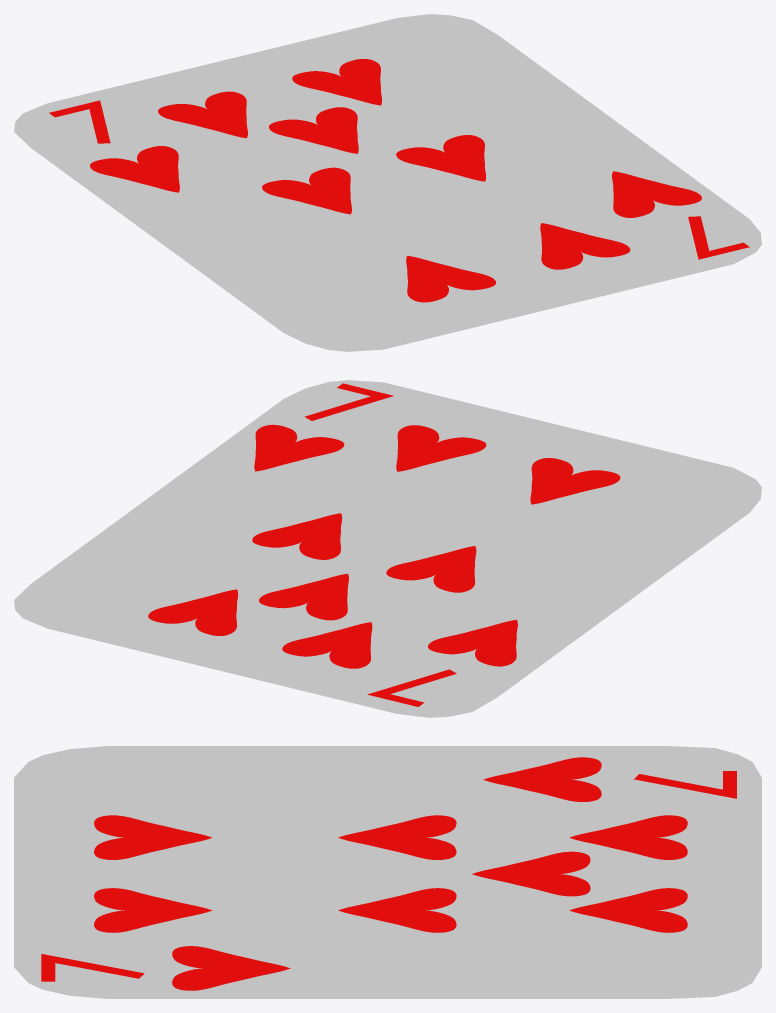
The picture shows the model from 3 angles, top to bottom: view 1: azimuth 30°, elevation 25°; view 2: azimuth 150°, elevation 25°; view 3: azimuth 270°, elevation 25°; orthographic projection. The views are drawn at different scales.
Parts seen in each view (by area): view 1: 7ofHearts, Plane.034_Red, Plane.035_Red, Plane.039_Red, Plane.032_Red, Plane.040_Red, Plane.033_Red, Plane.037_Red, Plane.036_Red, Plane.038_Red, Font.014_Bla_Blac.002, Font.013_Bla_Blac.002; view 2: 7ofHearts, Plane.034_Red, Plane.035_Red, Plane.038_Red, Plane.032_Red, Plane.039_Red, Plane.040_Red, Plane.033_Red, Plane.037_Red, Plane.036_Red, Font.013_Bla_Blac.002, Font.014_Bla_Blac.002; view 3: 7ofHearts, Plane.040_Red, Plane.034_Red, Plane.038_Red, Plane.032_Red, Plane.035_Red, Plane.037_Red, Plane.039_Red, Plane.033_Red, Plane.036_Red, Font.014_Bla_Blac.002, Font.013_Bla_Blac.002.
Boxes of the visible parts, <box> form: 7ofHearts: <box>14,14,761,351</box>; Plane.034_Red: <box>540,223,630,269</box>; Plane.035_Red: <box>406,256,495,302</box>; Plane.039_Red: <box>612,171,701,217</box>; Plane.032_Red: <box>262,167,351,214</box>; Plane.040_Red: <box>269,107,358,153</box>; Plane.033_Red: <box>396,135,485,181</box>; Plane.037_Red: <box>158,91,247,138</box>; Plane.036_Red: <box>292,59,381,105</box>; Plane.038_Red: <box>90,146,179,192</box>; Font.014_Bla_Blac.002: <box>688,216,749,259</box>; Font.013_Bla_Blac.002: <box>49,100,110,143</box>; 7ofHearts: <box>14,380,761,717</box>; Plane.034_Red: <box>396,425,486,471</box>; Plane.035_Red: <box>530,458,620,504</box>; Plane.038_Red: <box>428,619,517,666</box>; Plane.032_Red: <box>386,546,476,592</box>; Plane.039_Red: <box>254,424,344,471</box>; Plane.040_Red: <box>259,573,348,620</box>; Plane.033_Red: <box>252,513,342,559</box>; Plane.037_Red: <box>282,622,372,668</box>; Plane.036_Red: <box>148,589,238,635</box>; Font.013_Bla_Blac.002: <box>367,669,456,706</box>; Font.014_Bla_Blac.002: <box>304,383,393,420</box>; 7ofHearts: <box>14,746,761,998</box>; Plane.040_Red: <box>472,851,590,896</box>; Plane.034_Red: <box>94,888,212,932</box>; Plane.038_Red: <box>483,757,601,801</box>; Plane.032_Red: <box>338,815,456,859</box>; Plane.035_Red: <box>94,815,211,859</box>; Plane.037_Red: <box>569,815,687,859</box>; Plane.039_Red: <box>172,946,290,990</box>; Plane.033_Red: <box>338,888,456,932</box>; Plane.036_Red: <box>569,888,687,932</box>; Font.014_Bla_Blac.002: <box>41,954,144,981</box>; Font.013_Bla_Blac.002: <box>634,771,736,798</box>.
Size of the model in its own units: 1.6 by 0.00355 by 2.
